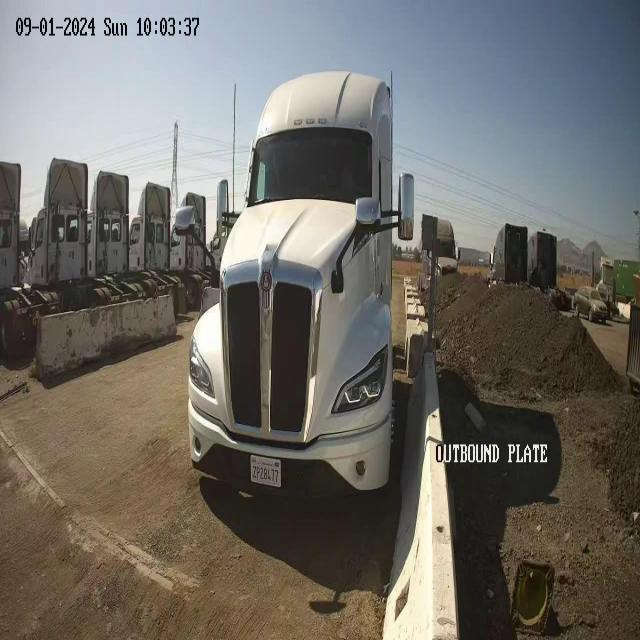TRUCK_OUT: (186, 68, 414, 500)
